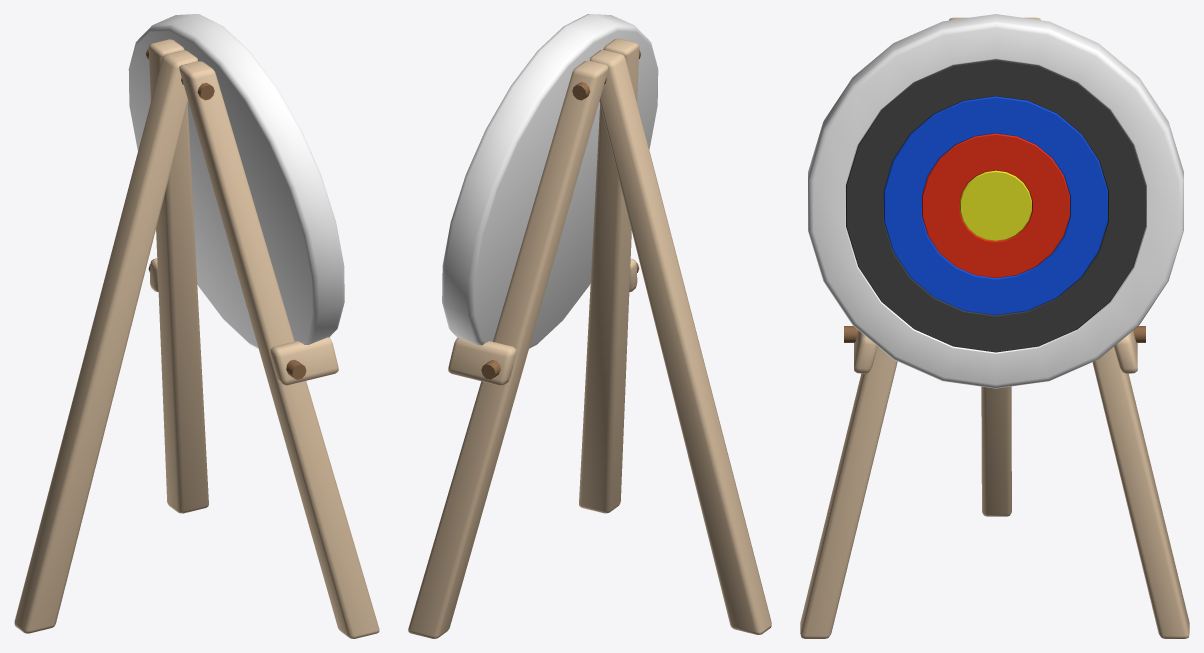
The model's file is Target.fbx.
3 renders of one model, left to right at view 1: azimuth 30°, elevation 25°; view 2: azimuth 150°, elevation 25°; view 3: azimuth 270°, elevation 25°, orthographic. The views are drawn at different scales.
Visible parts, largest first — view 1: Target_platform, Target_1; view 2: Target_platform, Target_1; view 3: Target_1, Target_platform.
Part boxes in pixels (x1,y1,x2,y2): Target_platform: (14,39,379,638); Target_1: (128,14,344,348); Target_platform: (408,38,771,638); Target_1: (442,14,658,348); Target_1: (808,14,1183,388); Target_platform: (800,17,1189,638).
Bounding box in the file's own units: 105 × 207 × 125.
